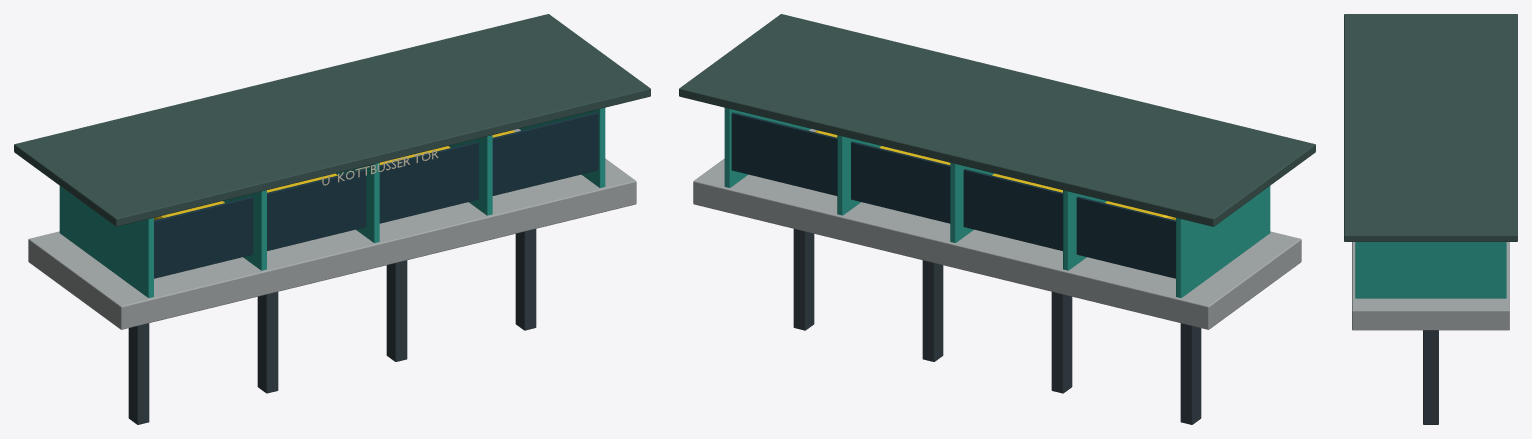
File: u1-station.glb
3 renders of one model, left to right at view 1: azimuth 30°, elevation 25°; view 2: azimuth 150°, elevation 25°; view 3: azimuth 270°, elevation 25°, orthographic. The views are drawn at different scales.
Parts seen in each view (by area): view 1: DC_Mesh_DC_Roof, DC_Mesh_DC_Concrete, DC_Mesh_DC_BlueGlass, DC_Mesh_DC_Teal, DC_Mesh_DC_Steel, DC_Mesh_DC_Yellow; view 2: DC_Mesh_DC_Roof, DC_Mesh_DC_Concrete, DC_Mesh_DC_BlueGlass, DC_Mesh_DC_Teal, DC_Mesh_DC_Steel, DC_Mesh_DC_Yellow; view 3: DC_Mesh_DC_Roof, DC_Mesh_DC_Teal, DC_Mesh_DC_Concrete, DC_Mesh_DC_Steel.
Part boxes in pixels (<box>): DC_Mesh_DC_Roof: <box>14,14,650,226</box>; DC_Mesh_DC_Concrete: <box>28,129,636,329</box>; DC_Mesh_DC_BlueGlass: <box>154,112,598,278</box>; DC_Mesh_DC_Teal: <box>59,108,605,297</box>; DC_Mesh_DC_Steel: <box>128,229,536,424</box>; DC_Mesh_DC_Yellow: <box>154,130,515,220</box>; DC_Mesh_DC_Roof: <box>679,14,1315,226</box>; DC_Mesh_DC_Concrete: <box>693,129,1301,329</box>; DC_Mesh_DC_BlueGlass: <box>731,112,1175,278</box>; DC_Mesh_DC_Teal: <box>724,108,1270,297</box>; DC_Mesh_DC_Steel: <box>793,229,1201,424</box>; DC_Mesh_DC_Yellow: <box>814,130,1175,220</box>; DC_Mesh_DC_Roof: <box>1344,14,1517,241</box>; DC_Mesh_DC_Teal: <box>1355,242,1506,298</box>; DC_Mesh_DC_Concrete: <box>1352,242,1509,330</box>; DC_Mesh_DC_Steel: <box>1423,330,1438,424</box>.
Size of the model in its own units: 16.6 by 7.62 by 5.5.
